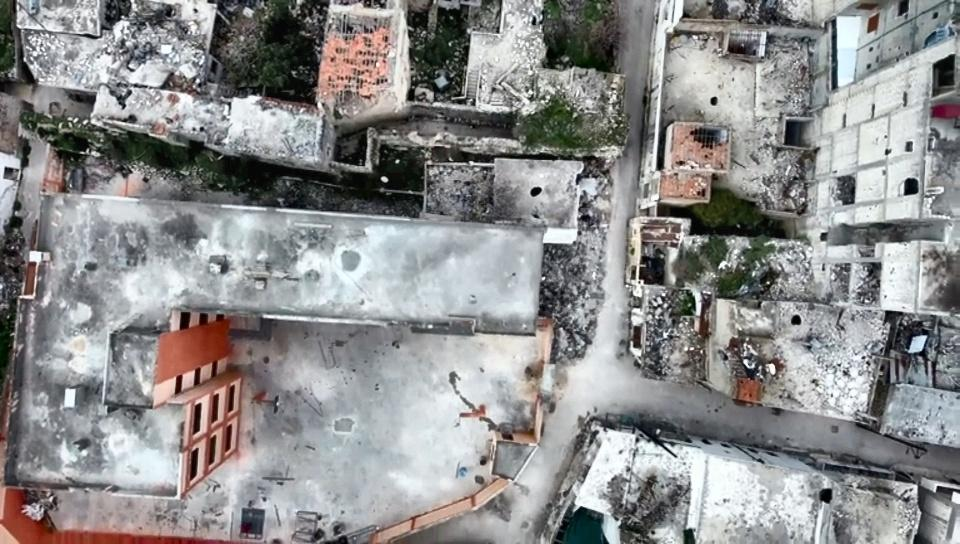kapali: (550, 155, 641, 379)
